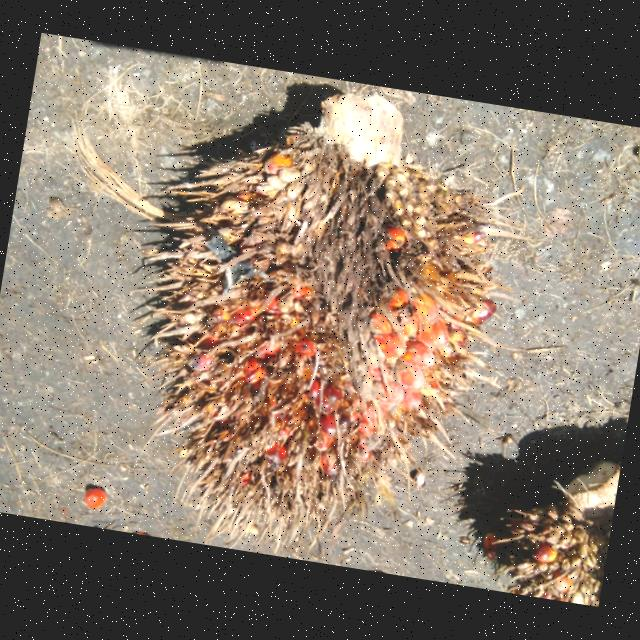Overripe: (149, 93, 507, 545)
